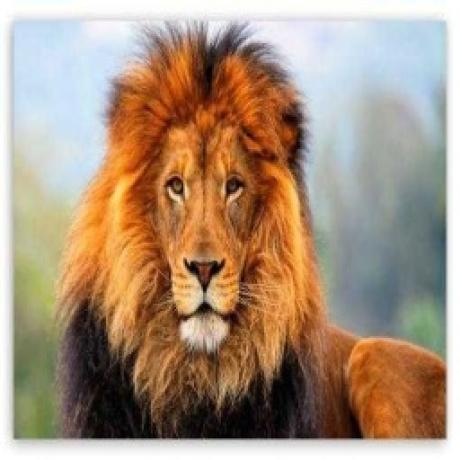Lion: (54, 14, 447, 440)
